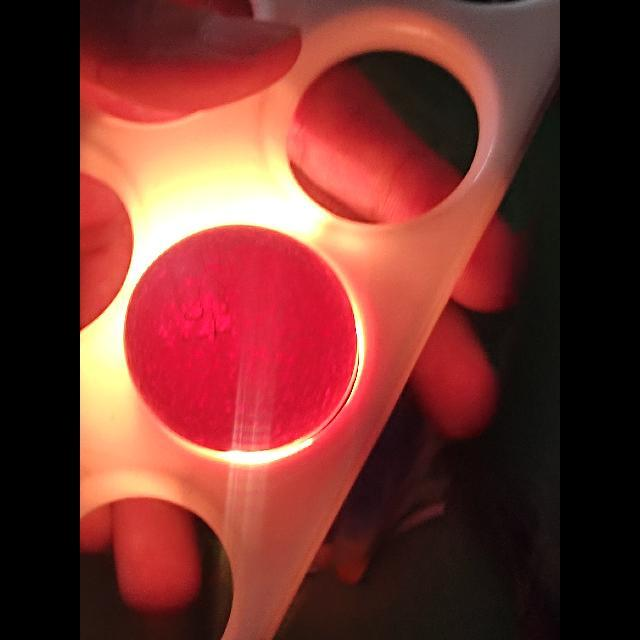Infertile: (128, 225, 356, 449)
